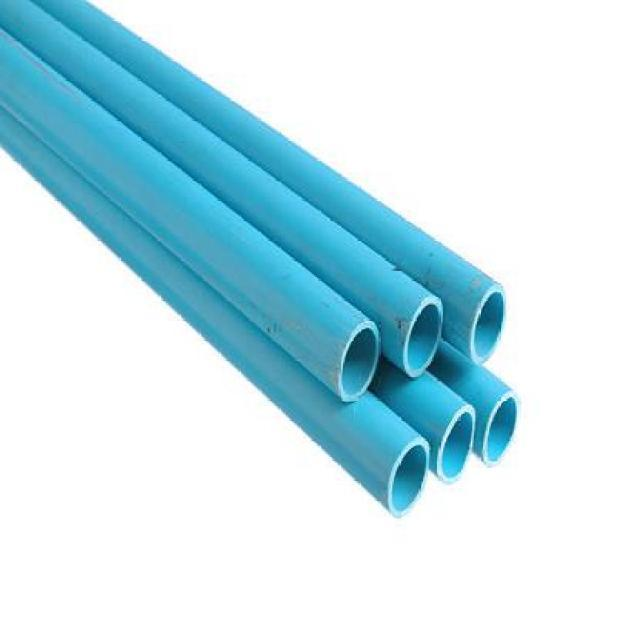pipe: (338, 319, 380, 404), (388, 437, 431, 519), (403, 296, 445, 378), (437, 404, 477, 486), (470, 283, 506, 365), (483, 390, 520, 467)
